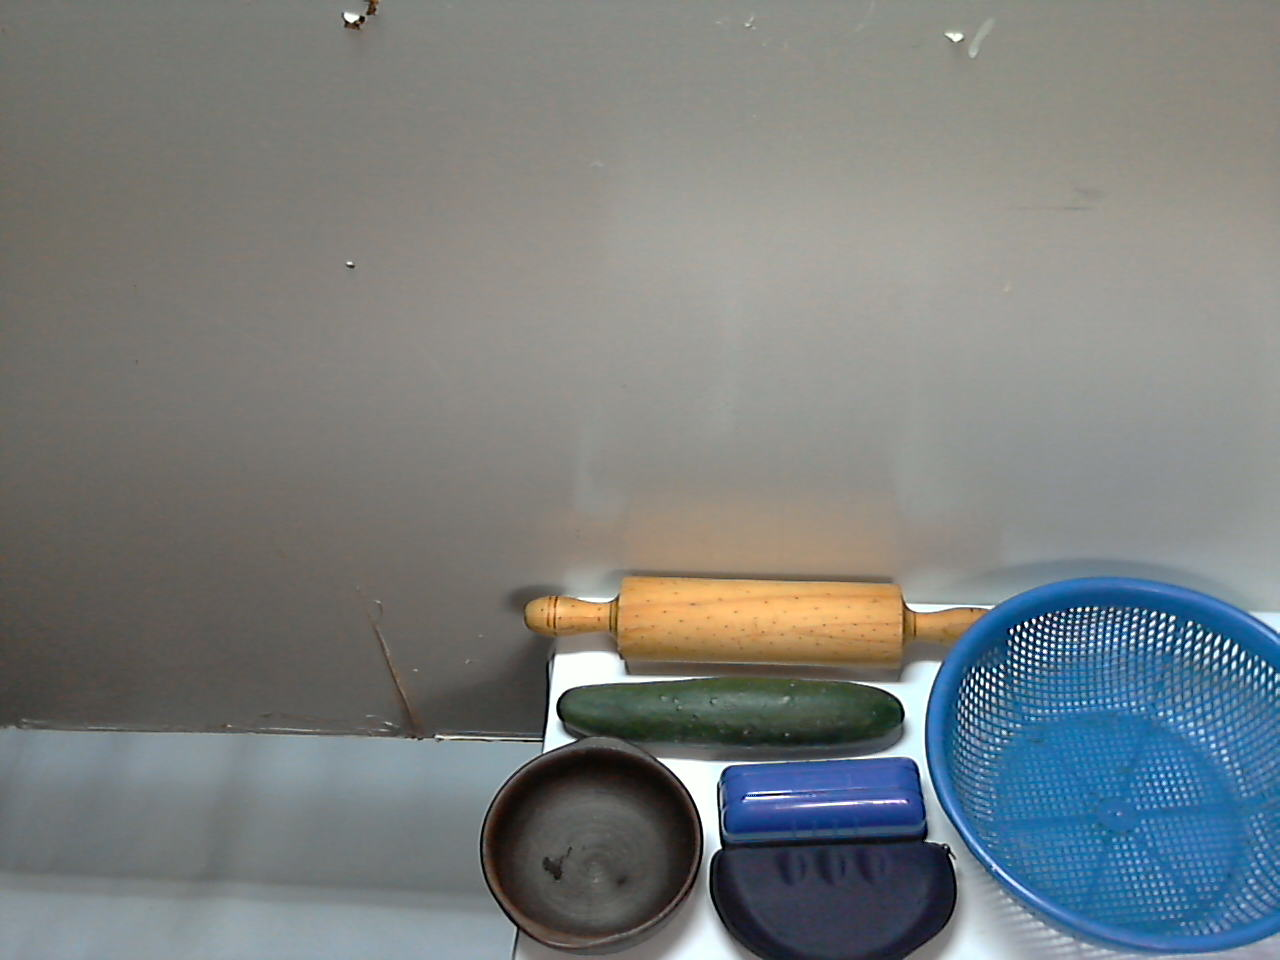jabon: (1019, 798, 1136, 944)
limon: (526, 738, 663, 889)
mostaza: (498, 607, 604, 769)
pelota: (882, 786, 995, 914)
pescado: (631, 767, 881, 938)
uslero: (619, 657, 1142, 803)
